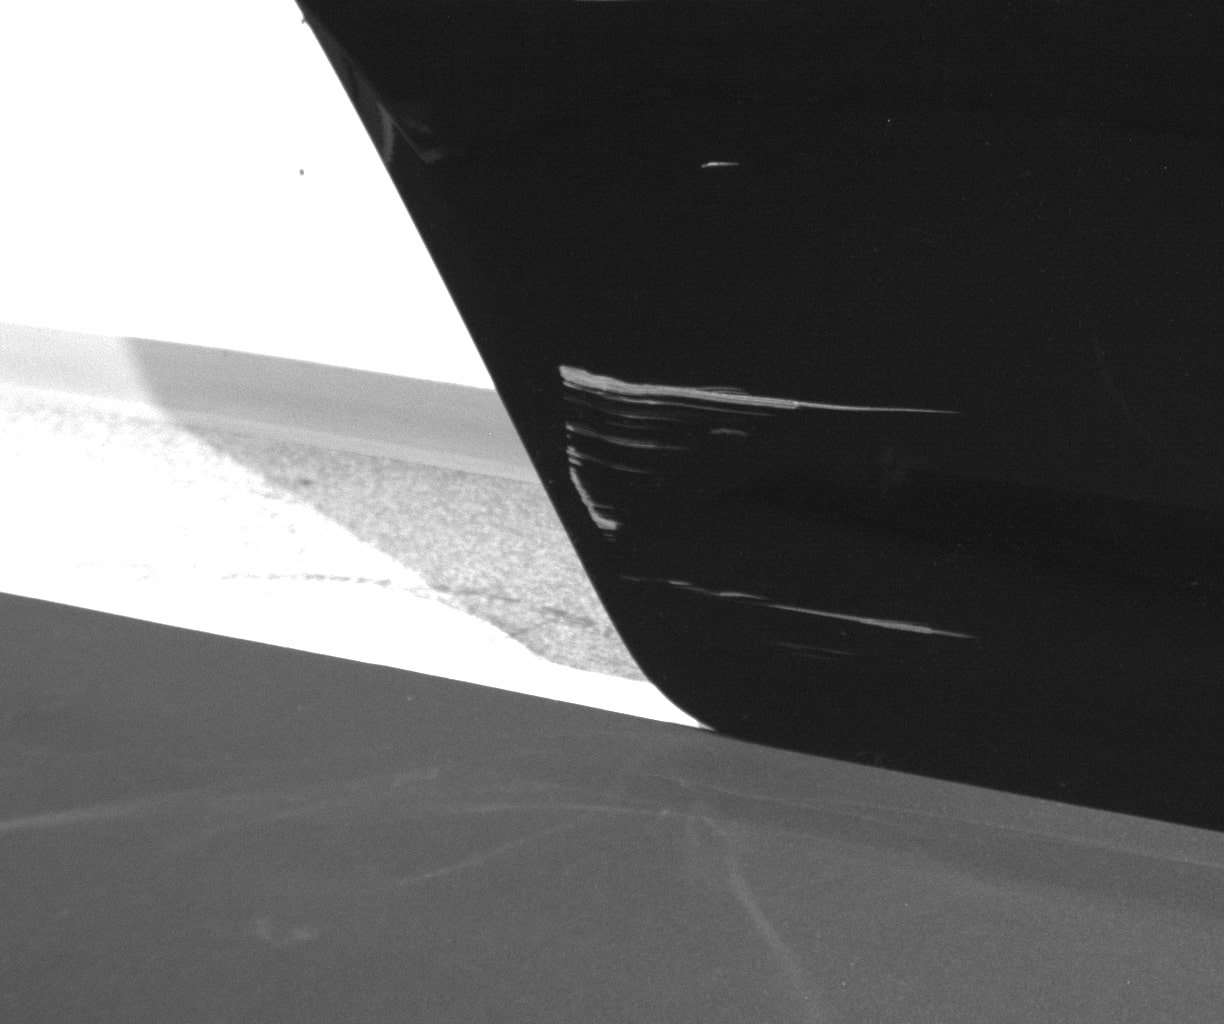scratch: (624, 576, 973, 639), (558, 364, 960, 415), (564, 446, 629, 531), (565, 423, 686, 449), (780, 642, 850, 656), (700, 161, 740, 169), (711, 427, 746, 435)
